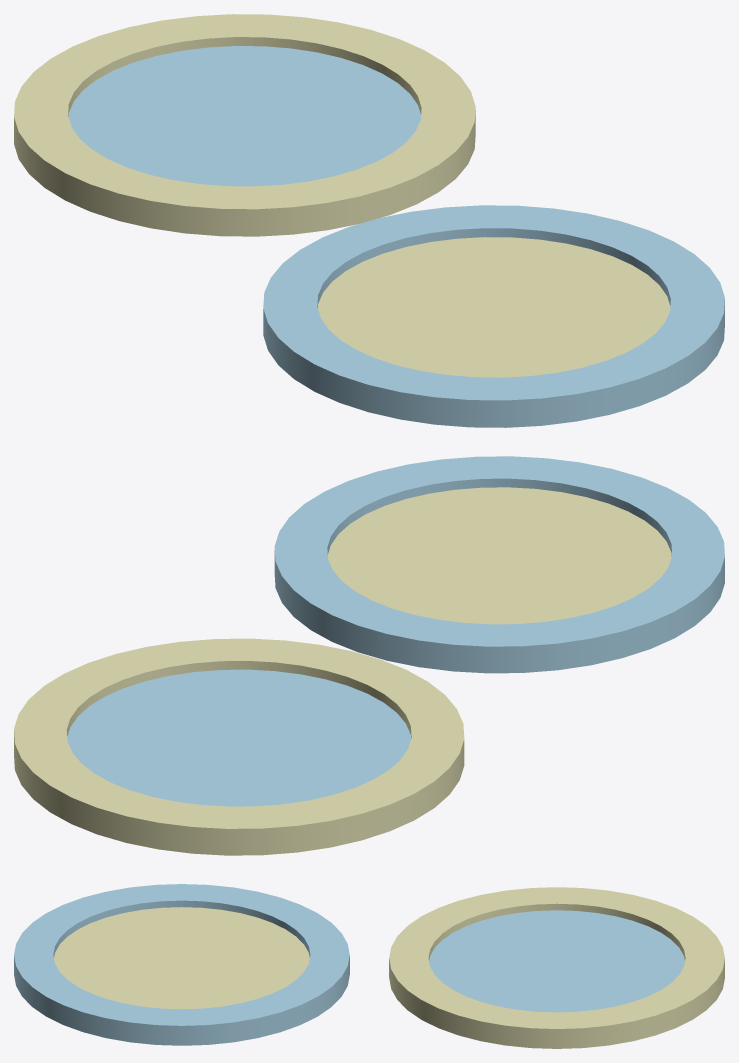
Rendered from Coasters.fbx.
The picture shows the model from 3 angles, top to bottom: view 1: azimuth 30°, elevation 25°; view 2: azimuth 150°, elevation 25°; view 3: azimuth 270°, elevation 25°; orthographic projection. The views are drawn at different scales.
Parts seen in each view (by area): view 1: polySurface1, polySurface2; view 2: polySurface1, polySurface2; view 3: polySurface1, polySurface2.
Boxes of the visible parts, x1,y1,x2,y2 form: polySurface1: [263, 205, 724, 427]; polySurface2: [14, 14, 475, 236]; polySurface1: [274, 456, 724, 673]; polySurface2: [14, 638, 464, 855]; polySurface1: [14, 884, 349, 1045]; polySurface2: [389, 887, 724, 1048].
Bounding box in the file's own units: 4.19 × 0.2676 × 8.67.
